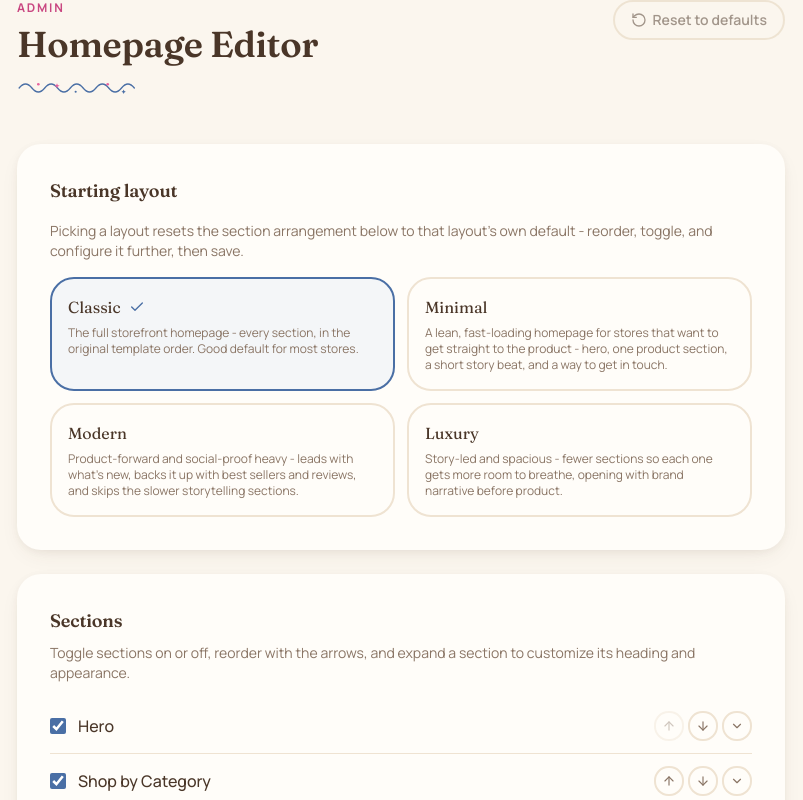
Test case: HomepageEditor › switching to the minimal layout disables sections minimal doesn't include
Click the button "Minimal". click: (580, 334)
box: x1=407 y1=277 x2=752 y2=391
(page scrolled)
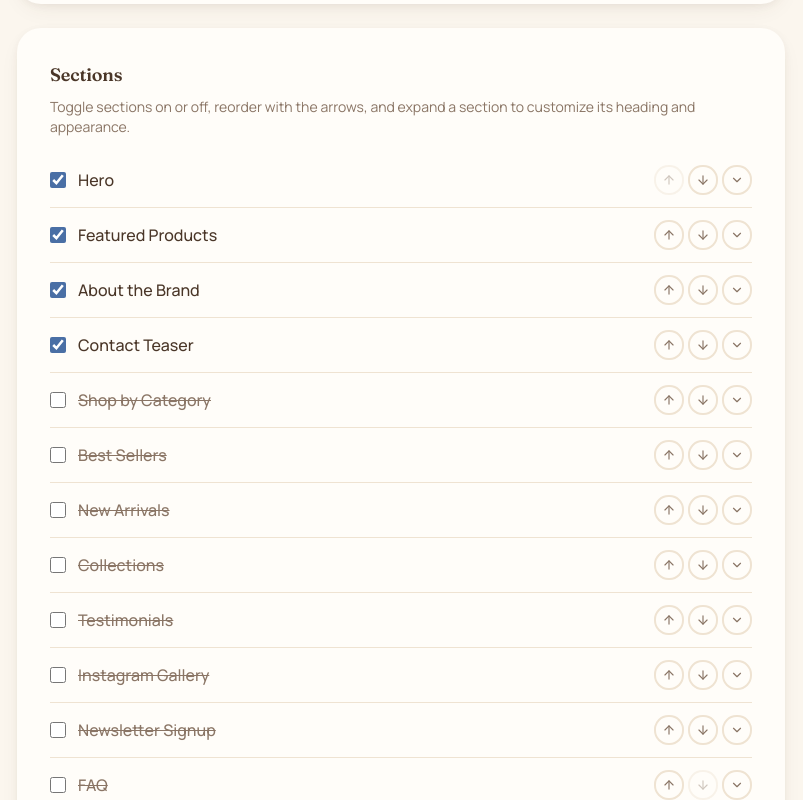
Check: the checkbox named "Enable Featured Products" is checked, box x1=50 y1=227 x2=66 y2=243
Check: the checkbox named "Enable Shop by Category" is not checked, box x1=50 y1=392 x2=66 y2=408
